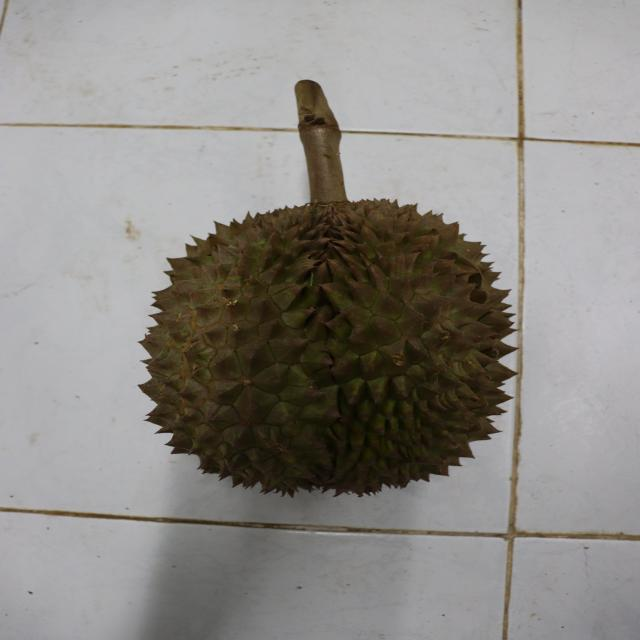mature: (138, 198, 527, 496)
